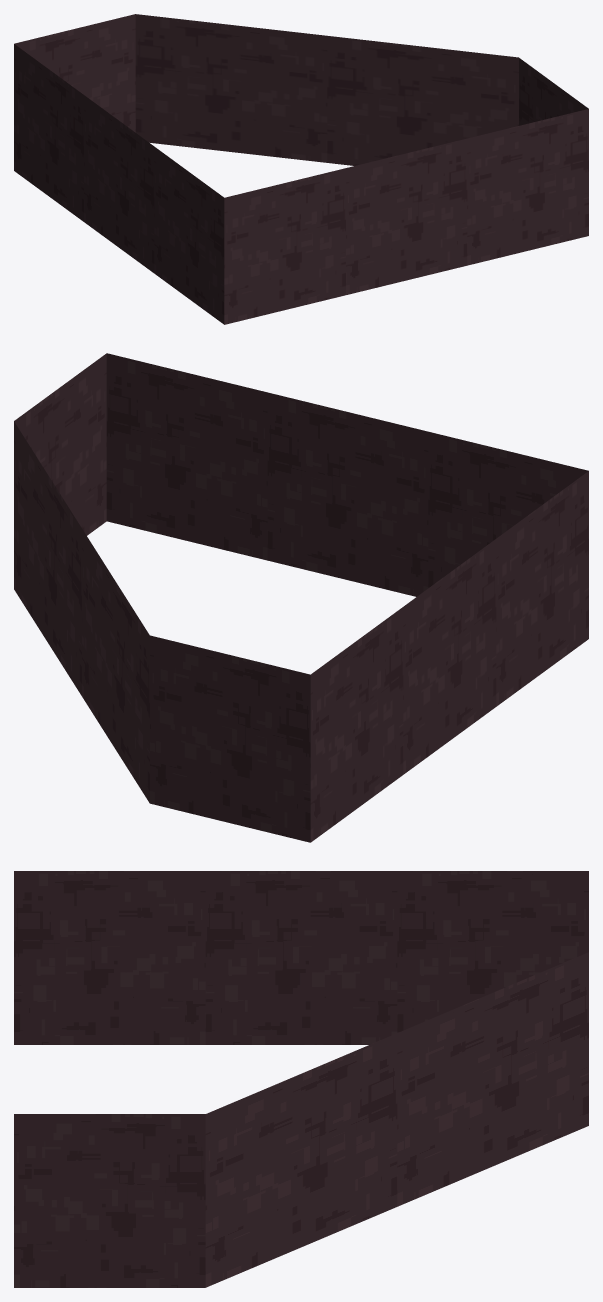
File: BigBeveledCornerWallFloor.fbx
3 renders of one model, top to bottom at view 1: azimuth 30°, elevation 25°; view 2: azimuth 150°, elevation 25°; view 3: azimuth 270°, elevation 25°, orthographic. The views are drawn at different scales.
Visible parts, largest first — view 1: BigBeveledCornerWallFloor; view 2: BigBeveledCornerWallFloor; view 3: BigBeveledCornerWallFloor.
Boxes of the visible parts, bbox=[...] form: BigBeveledCornerWallFloor: bbox=[14, 14, 588, 324]; BigBeveledCornerWallFloor: bbox=[14, 353, 588, 842]; BigBeveledCornerWallFloor: bbox=[14, 871, 588, 1287].
Size of the model in its own units: 300 by 100 by 300.
